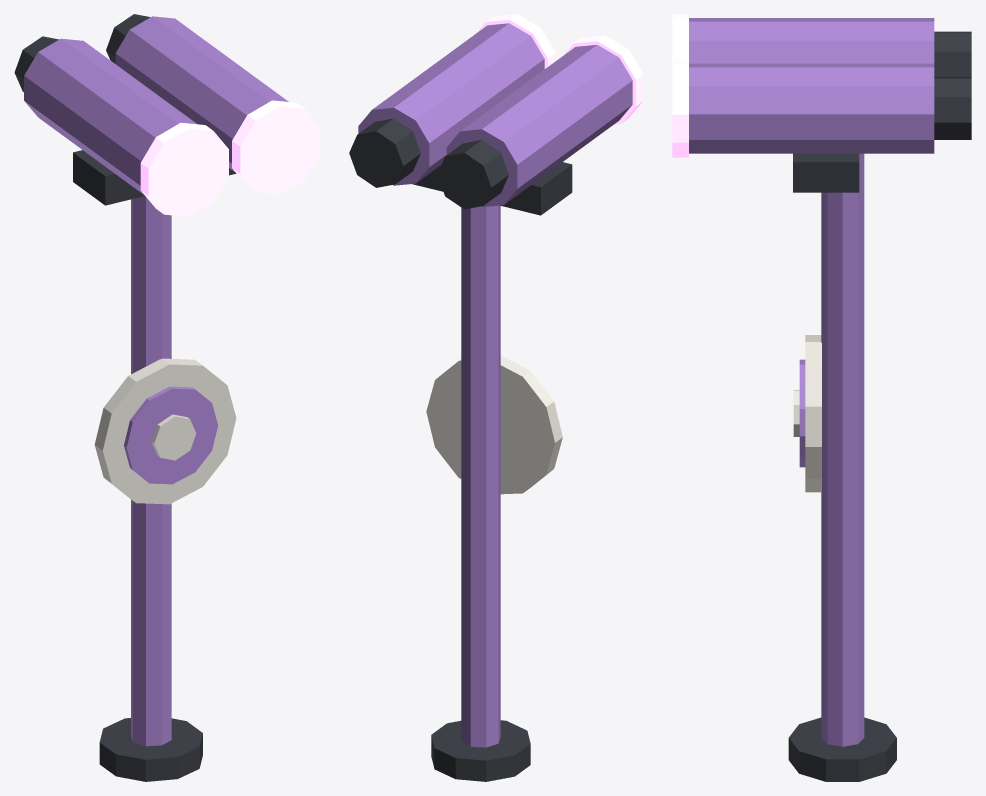
Rendered from artillery_m2_2.glb.
3 renders of one model, left to right at view 1: azimuth 30°, elevation 25°; view 2: azimuth 150°, elevation 25°; view 3: azimuth 270°, elevation 25°, orthographic. The views are drawn at different scales.
Visible parts, largest first — view 1: artillery_m2_2_mesh; view 2: artillery_m2_2_mesh; view 3: artillery_m2_2_mesh.
Part boxes in pixels (x1,y1,x2,y2): artillery_m2_2_mesh: (14,14,320,781); artillery_m2_2_mesh: (349,14,643,781); artillery_m2_2_mesh: (672,14,971,781).
Size of the model in its own units: 0.2441 by 0.955 by 0.36.
